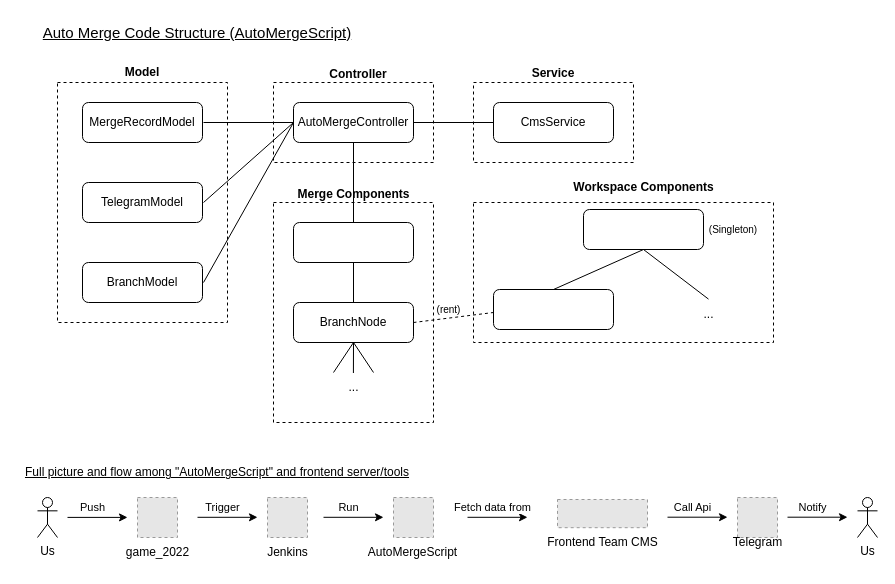
This 895x584 diagram has some shape labels left out. Grey dashed boxes stand in for pictures. The shapes that lost their labels are listed below. From the top down, each one's centre as x and y in pixels, then its label:
At point 353,242: "BranchTree".
At point 643,229: "WorkspaceManager".
At point 553,309: "Workspace".
